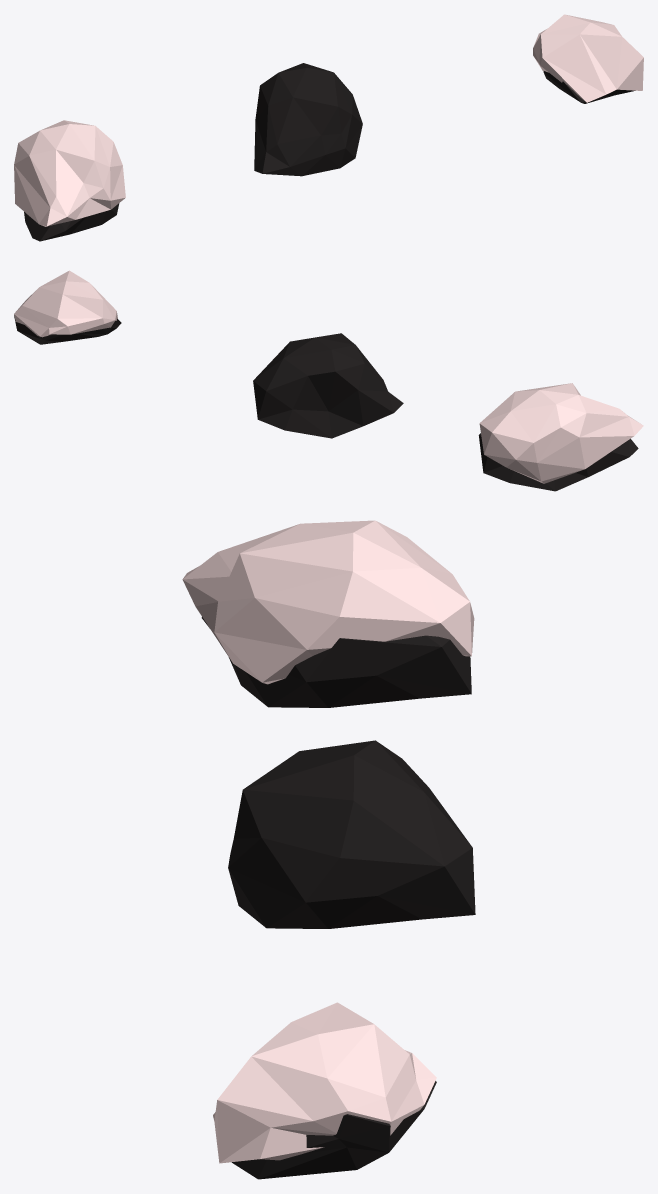
File: rocks.fbx
3 renders of one model, top to bottom at view 1: azimuth 30°, elevation 25°; view 2: azimuth 150°, elevation 25°; view 3: azimuth 270°, elevation 25°, orthographic. The views are drawn at different scales.
Parts seen in each view (by area): view 1: SnowyRock, Rock, SnowRock; view 2: SnowyRock, Rock, SnowRock; view 3: SnowyRock, Rock, SnowRock.
Boxes of the visible parts, x1,y1,x2,y2 form: SnowyRock: (14,120,125,241); Rock: (254,63,362,176); SnowRock: (533,14,643,103); SnowyRock: (478,383,643,491); Rock: (253,333,403,438); SnowRock: (14,270,121,344); SnowyRock: (182,520,474,707); Rock: (228,740,475,928); SnowRock: (213,1002,436,1179).
Bounding box in the file's own units: 1476 × 217 × 323.
